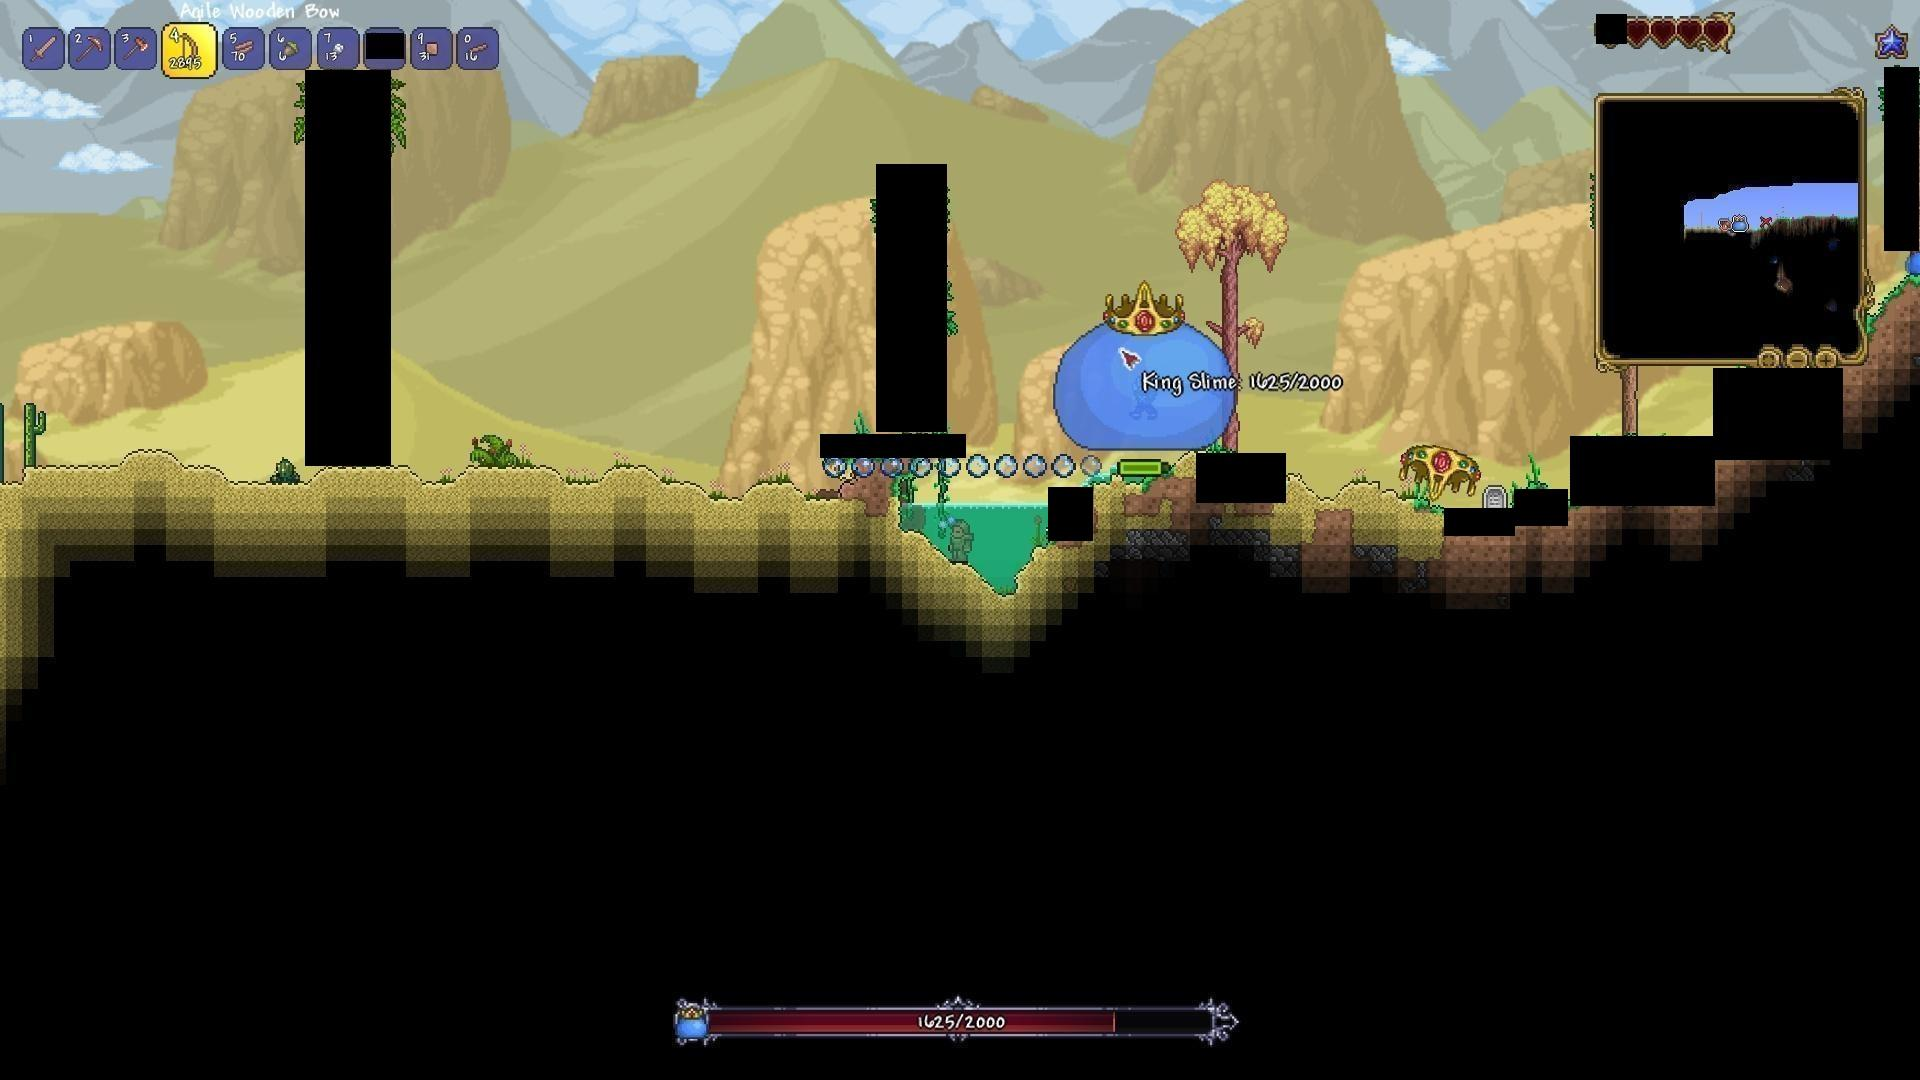dirt: (1865, 278, 1915, 345)
tree: (1178, 153, 1276, 454)
wood: (228, 33, 260, 63)
